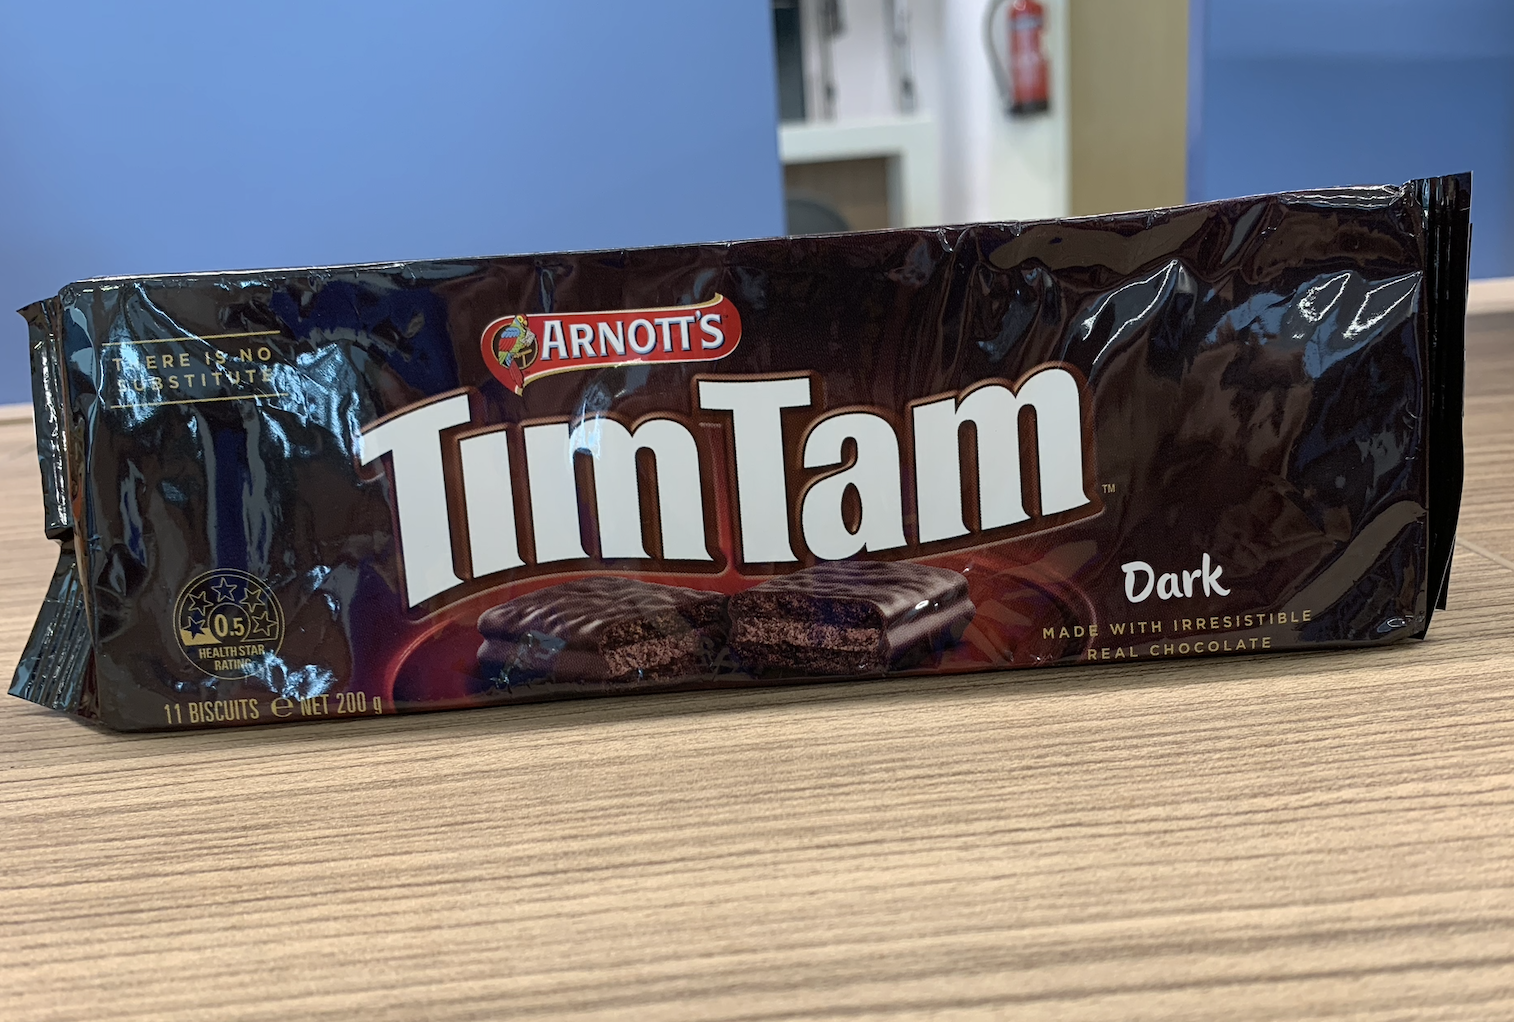cookies_150g: (133, 311, 1273, 663)
